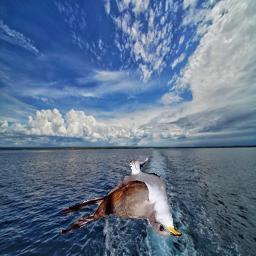Cuckoo: (62, 159, 182, 238)
